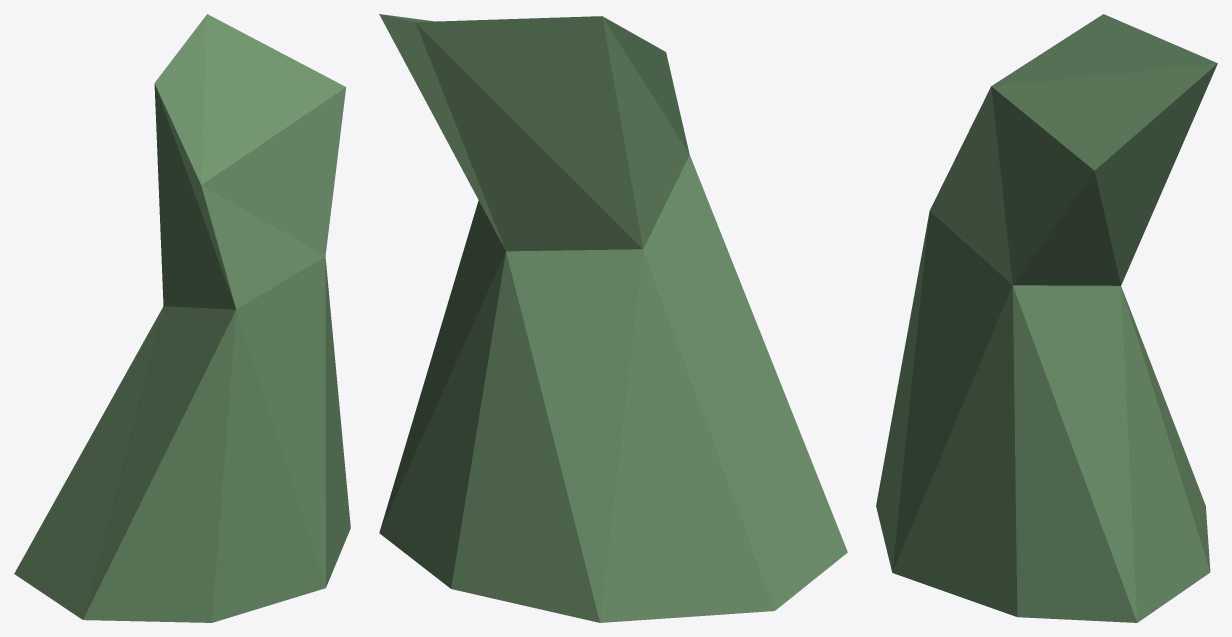
The model's file is LeftRearLeg.fbx.
3 views of the same model, side by side, from view 1: azimuth 30°, elevation 25°; view 2: azimuth 150°, elevation 25°; view 3: azimuth 270°, elevation 25° (orthographic). The views are drawn at different scales.
Visible parts, largest first — view 1: RightRear; view 2: RightRear; view 3: RightRear.
Boxes of the visible parts, x1,y1,x2,y2 form: RightRear: (14, 14, 350, 622); RightRear: (379, 14, 847, 622); RightRear: (876, 14, 1217, 622).
Size of the model in its own units: 0.3827 by 0.5144 by 0.3045.
